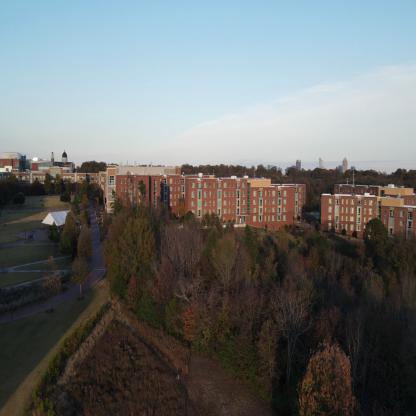Wolf Ridge: (104, 164, 302, 240), (315, 179, 415, 263)
